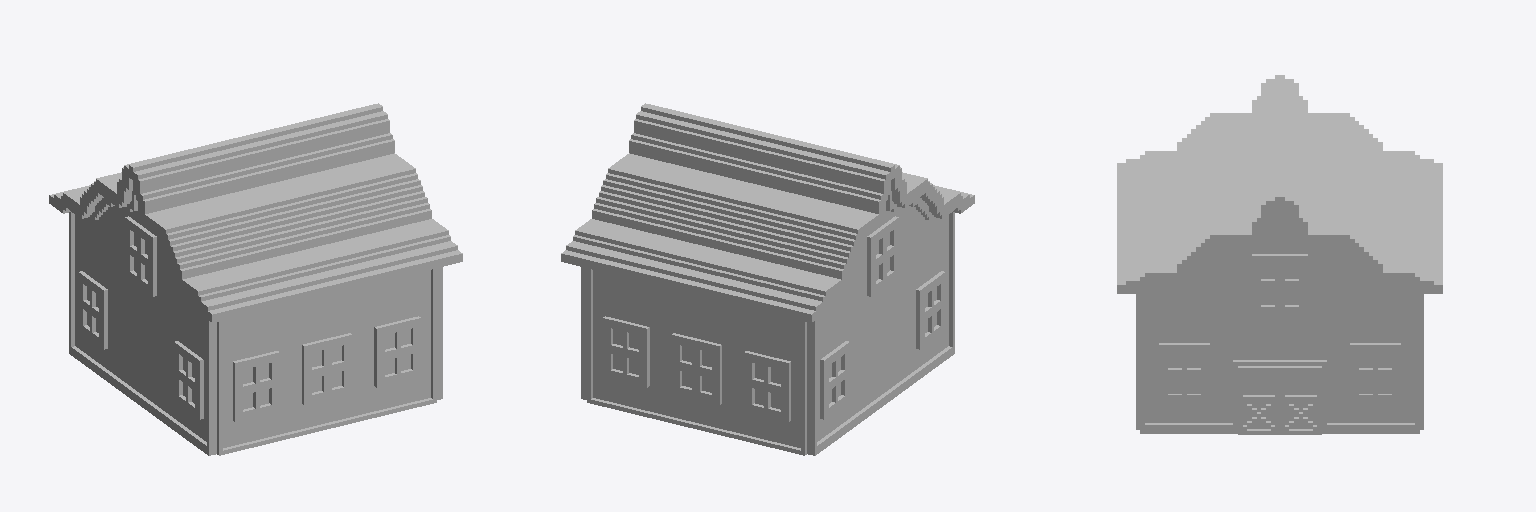
Rendered from Barn.obj.
The picture shows the model from 3 angles: view 1: azimuth 30°, elevation 25°; view 2: azimuth 150°, elevation 25°; view 3: azimuth 270°, elevation 25°; orthographic projection.
Parts seen in each view (by area): view 1: object 1; view 2: object 1; view 3: object 1.
Boxes of the visible parts, x1,y1,x2,y2 form: object 1: [49, 103, 462, 455]; object 1: [561, 103, 974, 455]; object 1: [1117, 75, 1442, 434].
Size of the model in its own units: 6.2 by 5.7 by 7.